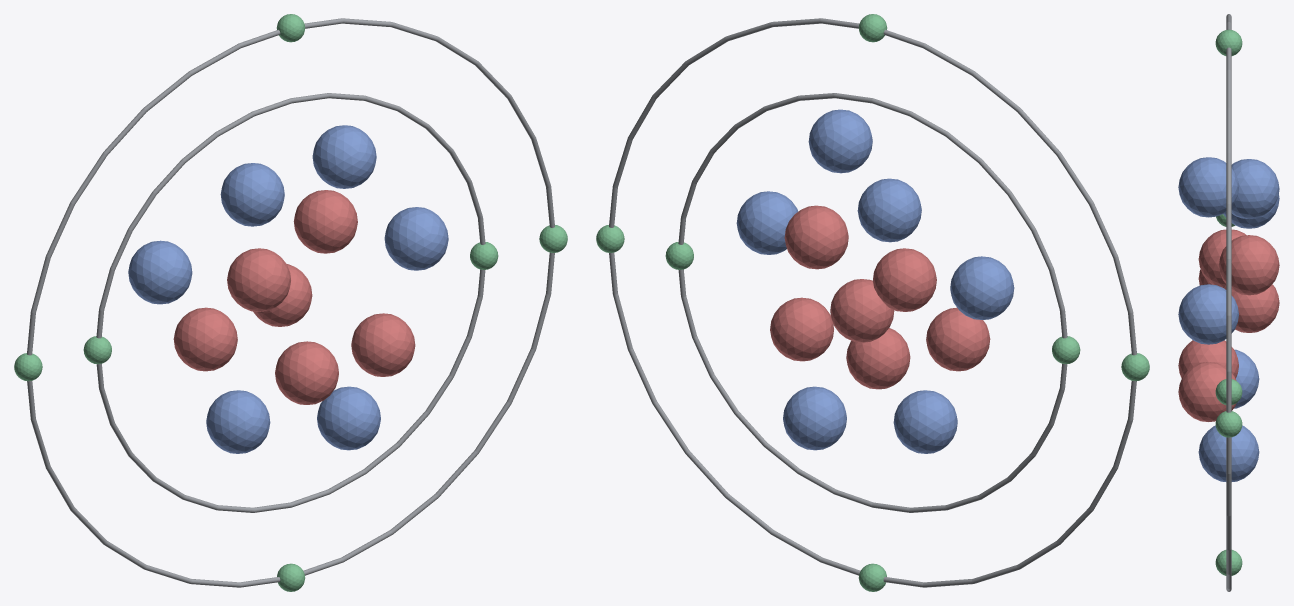
File: carbon_atom.glb
3 views of the same model, side by side, from view 1: azimuth 30°, elevation 25°; view 2: azimuth 150°, elevation 25°; view 3: azimuth 270°, elevation 25° (orthographic). The views are drawn at different scales.
Parts seen in each view (by area): view 1: shell_2, shell_1, n_2, n_3, n_6, p_6, p_5, p_4, p_2, n_1, n_4, p_3 (+2 smaller); view 2: shell_2, shell_1, n_2, p_4, n_4, n_1, n_6, n_5, p_6, p_2, p_5, p_1 (+2 smaller); view 3: shell_2, n_3, n_6, p_4, n_5, n_1, p_6, p_1, p_3, p_2, n_2, electron_3 (+4 smaller).
Boxes of the visible parts, x1,y1,x2,y2 form: shell_2: [27, 18, 554, 587]; shell_1: [96, 93, 485, 512]; n_2: [206, 390, 270, 453]; n_3: [384, 207, 448, 270]; n_6: [312, 125, 376, 188]; p_6: [351, 313, 415, 376]; p_5: [173, 307, 237, 371]; p_4: [293, 190, 357, 253]; p_2: [227, 248, 290, 311]; n_1: [220, 163, 284, 226]; n_4: [128, 240, 192, 304]; p_3: [275, 341, 338, 404]; shell_2: [609, 18, 1136, 587]; shell_1: [678, 93, 1067, 512]; n_2: [893, 390, 957, 453]; p_4: [784, 205, 848, 269]; n_4: [950, 256, 1014, 319]; n_1: [857, 178, 921, 242]; n_6: [808, 109, 872, 173]; n_5: [783, 386, 846, 450]; p_6: [770, 297, 833, 361]; p_2: [873, 248, 936, 311]; p_5: [926, 307, 990, 371]; p_1: [830, 279, 894, 342]; shell_2: [1226, 14, 1231, 591]; n_3: [1178, 284, 1238, 344]; n_6: [1178, 157, 1238, 217]; p_4: [1219, 235, 1279, 295]; n_5: [1198, 425, 1259, 481]; n_1: [1231, 159, 1279, 219]; p_6: [1178, 362, 1236, 421]; p_1: [1223, 284, 1279, 332]; p_3: [1178, 340, 1238, 378]; p_2: [1198, 229, 1246, 287]; n_2: [1234, 349, 1259, 408]; electron_3: [1215, 411, 1242, 437].
Bounding box in the file's own units: 3.56 × 3.56 × 0.6.
